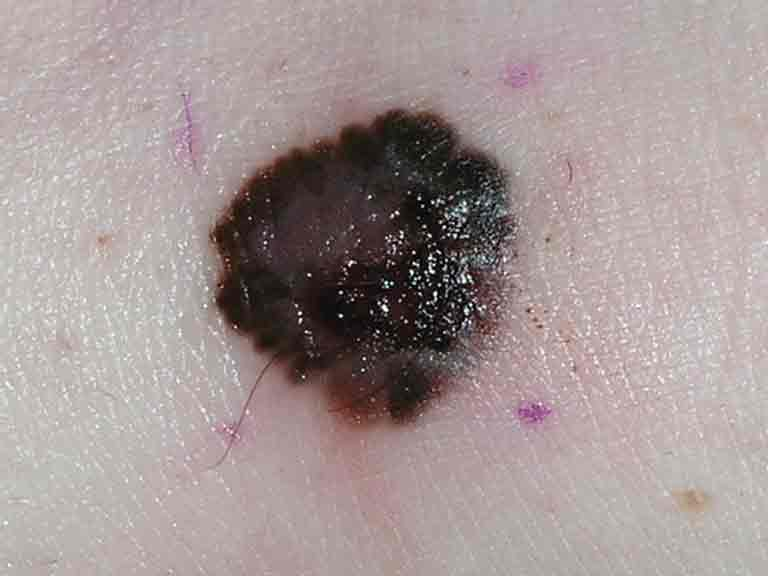melanoma: (173, 97, 561, 430)
